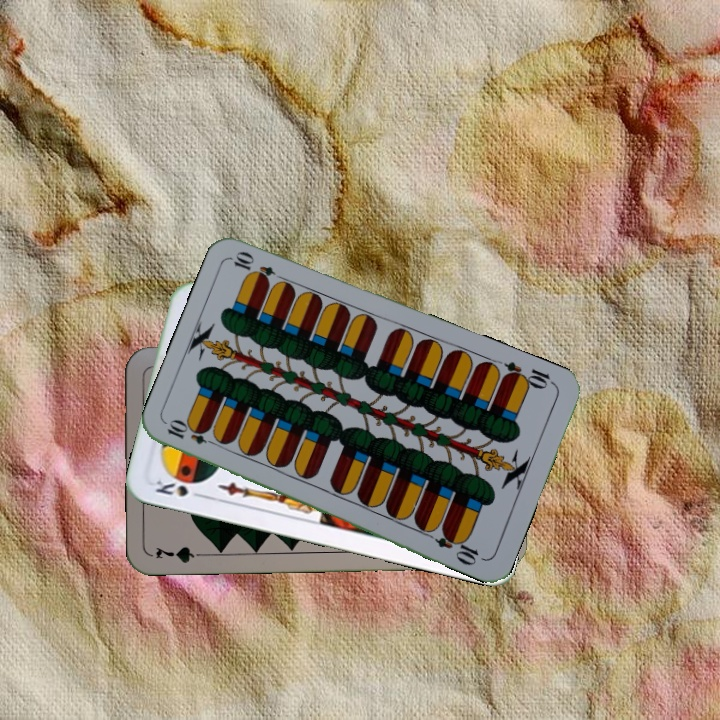E10: (499, 357, 558, 392), (163, 418, 221, 449)
G7: (151, 542, 210, 565)
SK: (151, 473, 208, 501)
